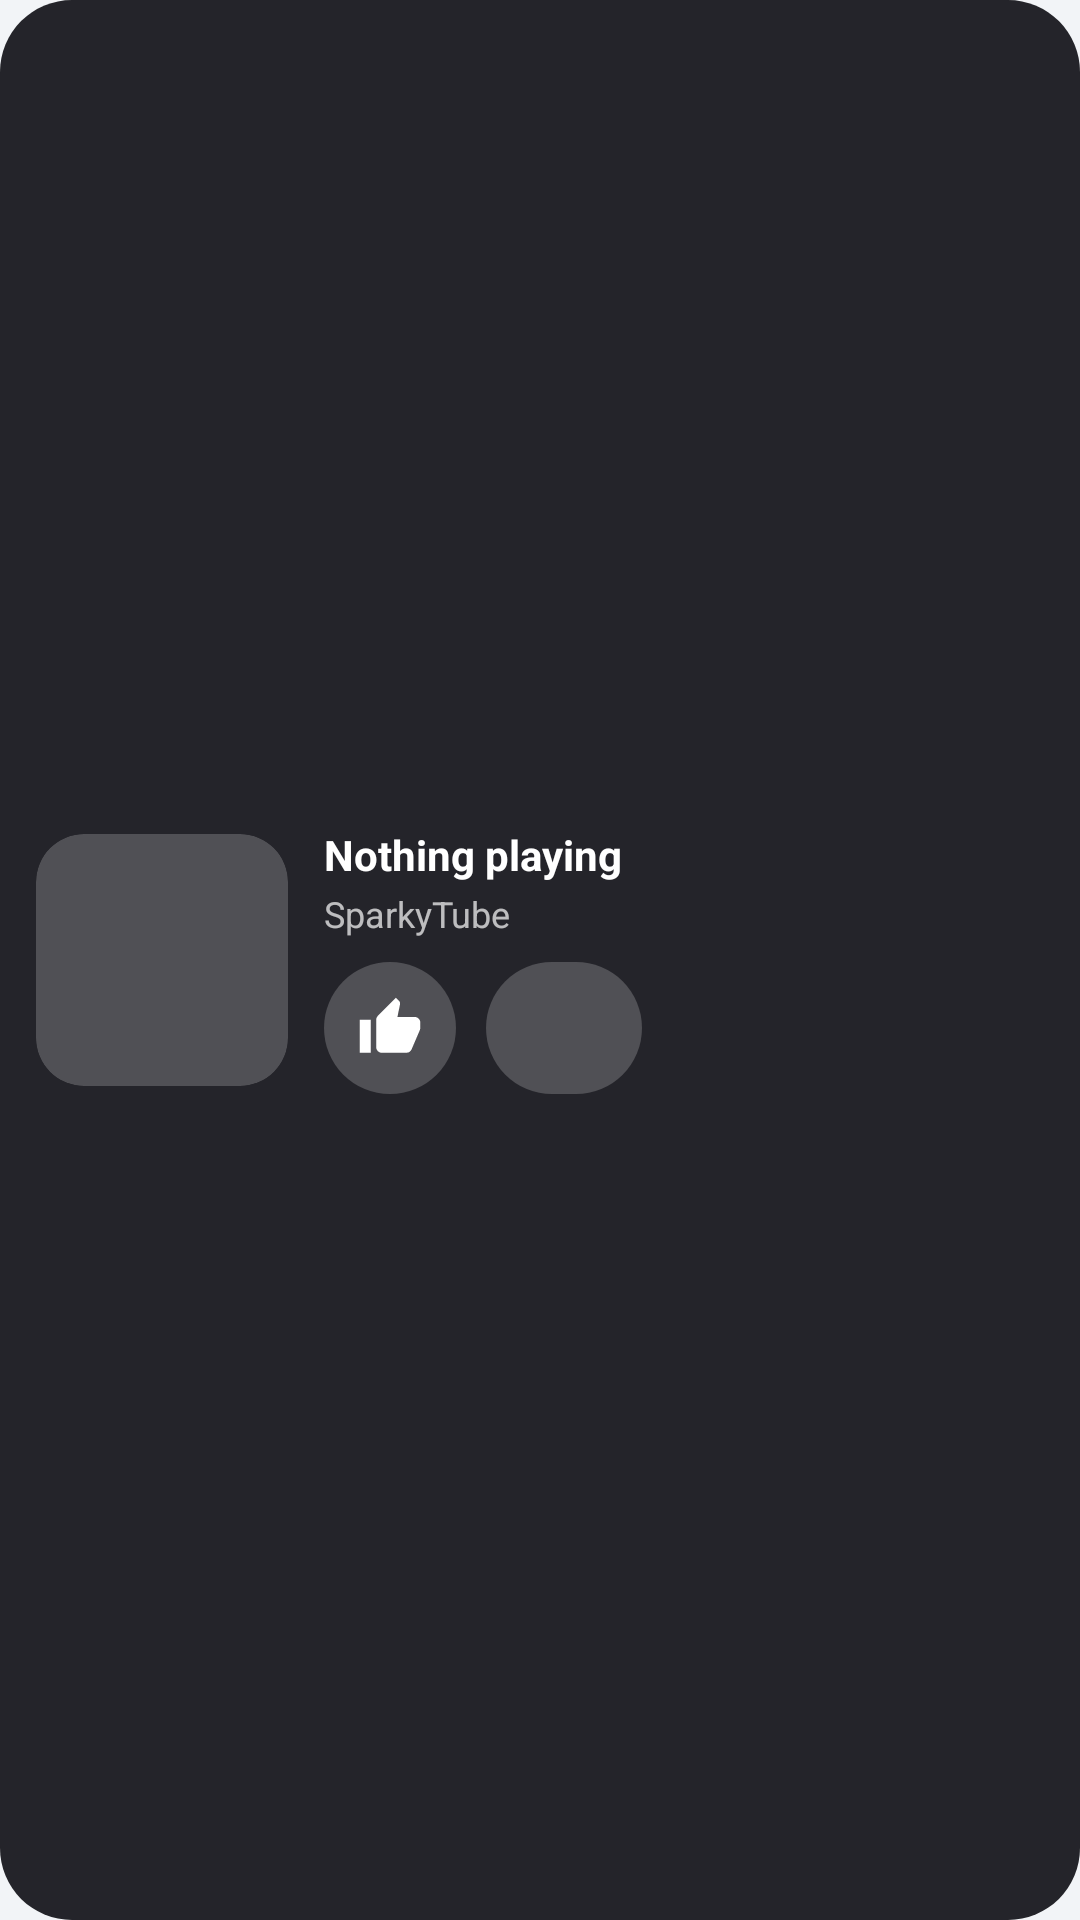

Locate icon controls on the screen. Image size 1080px×1920px, boxes as (x1, y1, x2, y2).
Like: (324, 962, 456, 1094)
